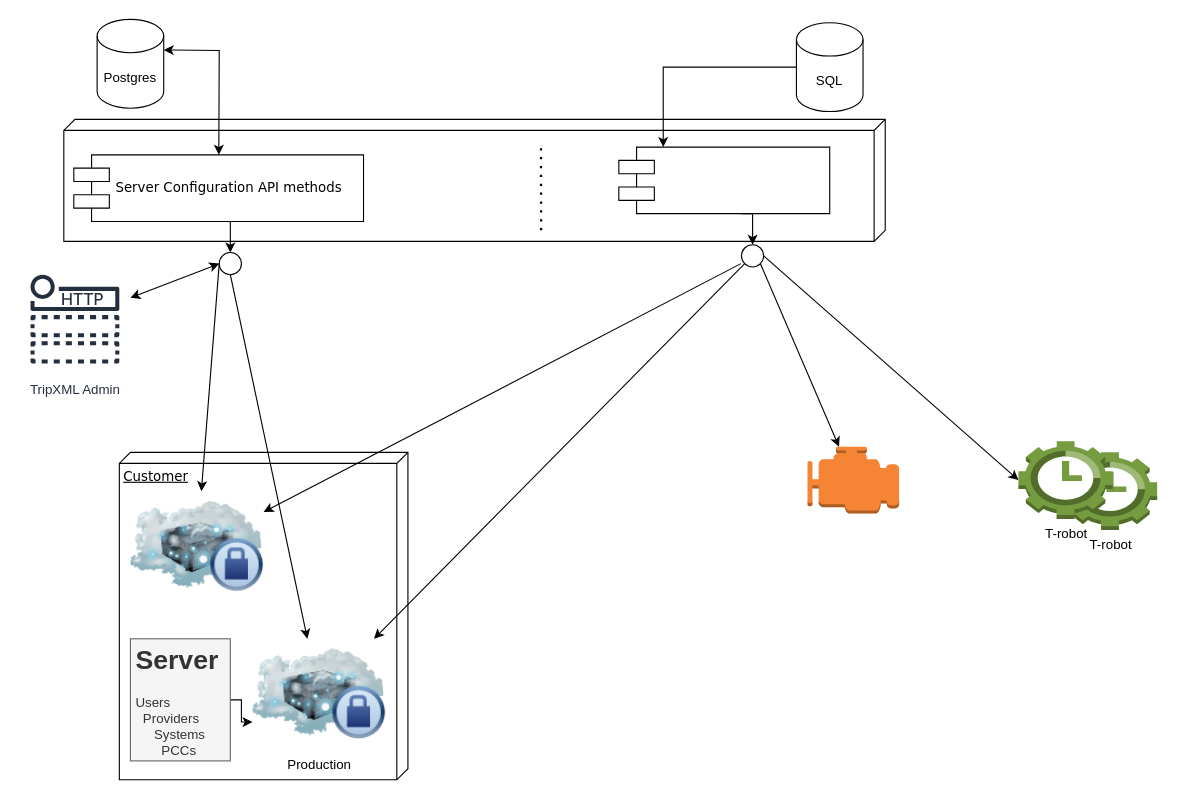
This 1177x799 diagram has some shape labels left out. Each missing label, with the box of its shape:
Contract Manager: (806, 446, 899, 513)
Decoding API methods: (618, 146, 830, 214)
Stage: (130, 491, 263, 602)
TripXML GraphQL: (63, 118, 885, 241)
